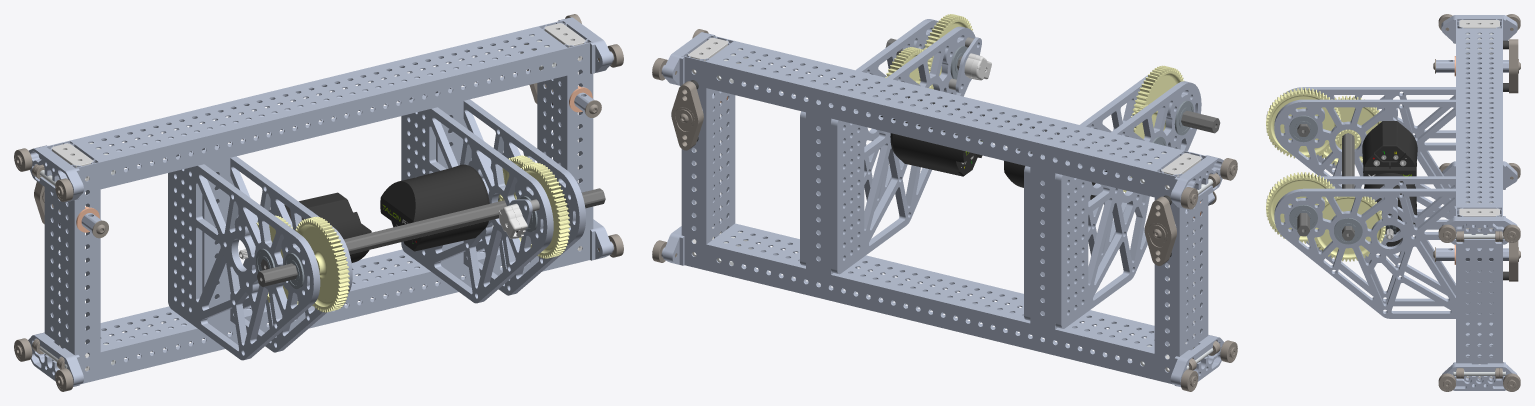
3 views of the same model, side by side, from view 1: azimuth 30°, elevation 25°; view 2: azimuth 150°, elevation 25°; view 3: azimuth 270°, elevation 25° (orthographic). The views are drawn at different scales.
Parts seen in each view (by area): view 1: Carriage H tube (×2), Outer pivot plate L, Carriage V tube (×2), Inner pivot plate R, Kraken X60 Brushless Motor (×2), 62t 20dp Aluminum 1/2" Hex Bore Pocketed Gear (WCP-0141) (×2), Outer pivot plate R, WCP-0897-001 Rev1 (×4), Inner pivot plate L, Tube 2"x1"x6" (×2), 1/2" Rounded Hex (REV) (11 in), 2" x 1" Tube Plug 0.125" Wall, #10-32 Tapped (WCP-0374) (×2) (+1 smaller); view 2: Carriage H tube (×2), Carriage V tube (×2), Outer pivot plate L, Inner pivot plate R, Tube 2"x1"x6" (×2), WCP-0897-001 Rev1 (×4), Inner pivot plate L, Outer pivot plate R, Ratchet Plate (1/2" Hex) (WCP-0585) (×2), 62t 20dp Aluminum 1/2" Hex Bore Pocketed Gear (WCP-0141) (×3), Kraken X60 Brushless Motor, 2" x 1" Tube Plug 0.125" Wall, #10-32 Tapped (WCP-0374) (×2) (+2 smaller); view 3: Outer pivot plate R, Carriage H tube, Inner pivot plate L, Carriage V tube (×2), 62t 20dp Aluminum 1/2" Hex Bore Pocketed Gear (WCP-0141) (×4), Inner pivot plate R, WCP-0897-001 Rev1 (×4), Kraken X60 Brushless Motor (×2), Outer pivot plate L, .5" Hex ID 1.125" OD Flanged Bearing (217-2734) (×3), Ratchet Plate (1/2" Hex) (WCP-0585) (×2), 0.250" ID x 0.750" OD x 0.282" WD (Radial Bearing) (WCP-0212 (×4) (+4 smaller).
Part boxes in pixels (x1=…): Carriage H tube (×2): x1=71, y1=26, x2=567, y2=379; Outer pivot plate L: x1=168, y1=155, x2=320, y2=360; Carriage V tube (×2): x1=44, y1=20, x2=593, y2=383; Inner pivot plate R: x1=401, y1=98, x2=553, y2=303; Kraken X60 Brushless Motor (×2): x1=239, y1=164, x2=489, y2=262; 62t 20dp Aluminum 1/2" Hex Bore Pocketed Gear (WCP-0141) (×2): x1=295, y1=163, x2=570, y2=312; Outer pivot plate R: x1=448, y1=88, x2=585, y2=295; WCP-0897-001 Rev1 (×4): x1=28, y1=17, x2=613, y2=386; Inner pivot plate L: x1=215, y1=145, x2=352, y2=352; Tube 2"x1"x6" (×2): x1=189, y1=92, x2=463, y2=325; 1/2" Rounded Hex (REV) (11 in): x1=261, y1=200, x2=506, y2=270; 2" x 1" Tube Plug 0.125" Wall, #10-32 Tapped (WCP-0374) (×2): x1=52, y1=23, x2=586, y2=181; Carriage H tube (×2): x1=706, y1=41, x2=1182, y2=379; Carriage V tube (×2): x1=681, y1=35, x2=1208, y2=384; Outer pivot plate L: x1=1055, y1=81, x2=1201, y2=328; Inner pivot plate R: x1=831, y1=26, x2=975, y2=274; Tube 2"x1"x6" (×2): x1=806, y1=104, x2=1069, y2=329; WCP-0897-001 Rev1 (×4): x1=661, y1=32, x2=1224, y2=386; Inner pivot plate L: x1=1024, y1=75, x2=1147, y2=320; Outer pivot plate R: x1=800, y1=19, x2=938, y2=265; Ratchet Plate (1/2" Hex) (WCP-0585) (×2): x1=671, y1=81, x2=1176, y2=265; 62t 20dp Aluminum 1/2" Hex Bore Pocketed Gear (WCP-0141) (×3): x1=885, y1=14, x2=1184, y2=114; Kraken X60 Brushless Motor: x1=890, y1=97, x2=984, y2=176; 2" x 1" Tube Plug 0.125" Wall, #10-32 Tapped (WCP-0374) (×2): x1=687, y1=37, x2=1201, y2=189; Outer pivot plate R: x1=1274, y1=188, x2=1493, y2=318; Carriage H tube: x1=1456, y1=28, x2=1502, y2=207; Inner pivot plate L: x1=1274, y1=99, x2=1492, y2=229; Carriage V tube (×2): x1=1456, y1=18, x2=1502, y2=379; 62t 20dp Aluminum 1/2" Hex Bore Pocketed Gear (WCP-0141) (×4): x1=1266, y1=87, x2=1385, y2=261; Inner pivot plate R: x1=1306, y1=176, x2=1492, y2=306; WCP-0897-001 Rev1 (×4): x1=1441, y1=15, x2=1517, y2=390; Kraken X60 Brushless Motor (×2): x1=1362, y1=121, x2=1417, y2=246; Outer pivot plate L: x1=1282, y1=87, x2=1492, y2=217; .5" Hex ID 1.125" OD Flanged Bearing (217-2734) (×3): x1=1289, y1=115, x2=1362, y2=244; Ratchet Plate (1/2" Hex) (WCP-0585) (×2): x1=1509, y1=39, x2=1518, y2=281; 0.250" ID x 0.750" OD x 0.282" WD (Radial Bearing) (WCP-0212 (×4): x1=1438, y1=224, x2=1520, y2=391.
Bounding box in the file's own units: 0.5496 × 0.2032 × 0.2759.
